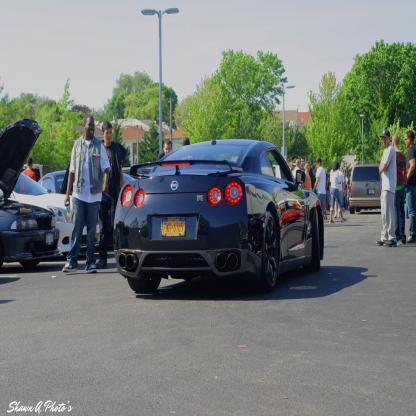Car: (114, 141, 325, 290), (1, 120, 63, 269), (1, 173, 100, 253)
